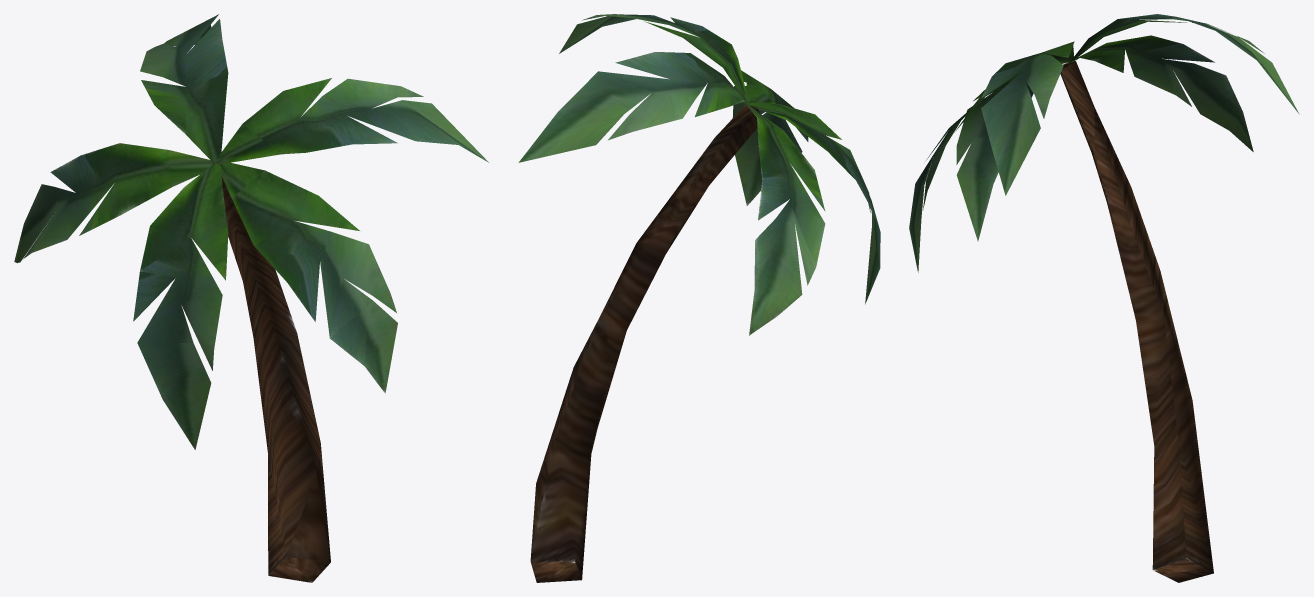
File: palme2.obj
3 renders of one model, left to right at view 1: azimuth 30°, elevation 25°; view 2: azimuth 150°, elevation 25°; view 3: azimuth 270°, elevation 25°, orthographic. The views are drawn at different scales.
Parts seen in each view (by area): view 1: Group; view 2: Group; view 3: Group.
Boxes of the visible parts, left/top/right/bottom form: Group: left=14, top=14, right=488, bottom=582; Group: left=518, top=14, right=880, bottom=582; Group: left=909, top=14, right=1299, bottom=582.
Size of the model in its own units: 34.35 by 50.57 by 34.63.
1 material, 1 textured.
